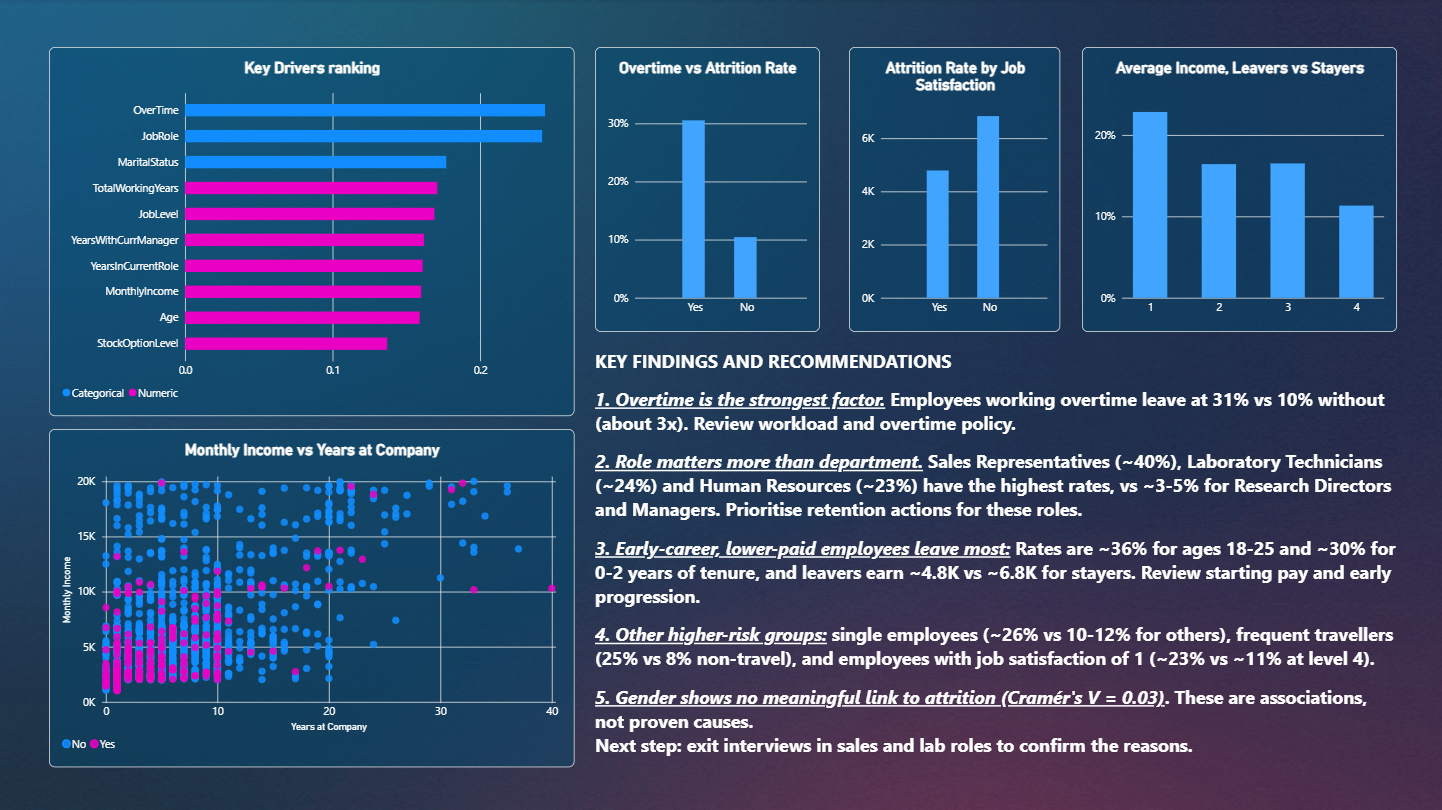

What the dashboard file says about the page in this screenshot:
{"tool":"powerbi","page":{"name":"Key Drivers and Insights","canvas":[1920,1080],"ordinal":2},"visuals":[{"type":"barChart","title":"Key Drivers ranking","fields":{"Category":["correlation_results.Factor"],"Series":["correlation_results.Type"],"Y":["Sum(correlation_results.AbsStrength)"]},"box":[67.1,64.3,698.6,491.4],"z":0},{"type":"columnChart","title":"Overtime vs Attrition Rate","fields":{"Category":["HR.OverTime"],"Y":["HR.Attrition Rate"]},"box":[792.9,64.3,298.6,378.6],"z":1000},{"type":"columnChart","title":"Attrition Rate by Job Satisfaction","fields":{"Category":["HR.Attrition"],"Y":["HR.Avg Monthly Income"]},"box":[1130,64.3,281.4,378.6],"z":2000},{"type":"columnChart","title":"Average Income, Leavers vs Stayers","fields":{"Category":["HR.JobSatisfaction"],"Y":["HR.Attrition Rate"]},"box":[1440,64.3,418.6,378.6],"z":3000},{"type":"scatterChart","title":"Monthly Income vs Years at Company","fields":{"Category":["HR.EmpID"],"Series":["HR.Attrition"],"X":["Sum(HR.YearsAtCompany)"],"Y":["Sum(HR.MonthlyIncome)"]},"box":[67.1,571.4,698.6,450],"z":4000},{"type":"textbox","box":[792.9,464.3,1065.7,557.1],"z":5000}]}

Visuals, with their boxes in screenshot pixels (x1, y1, x2, y2), scaled from the page's 1920x1080 canvas onto the 1442x810 screenshot:
"Key Drivers ranking" barChart: 50, 48, 575, 417
"Overtime vs Attrition Rate" columnChart: 596, 48, 820, 332
"Attrition Rate by Job Satisfaction" columnChart: 849, 48, 1060, 332
"Average Income, Leavers vs Stayers" columnChart: 1082, 48, 1396, 332
"Monthly Income vs Years at Company" scatterChart: 50, 429, 575, 766
textbox: 596, 348, 1396, 766
